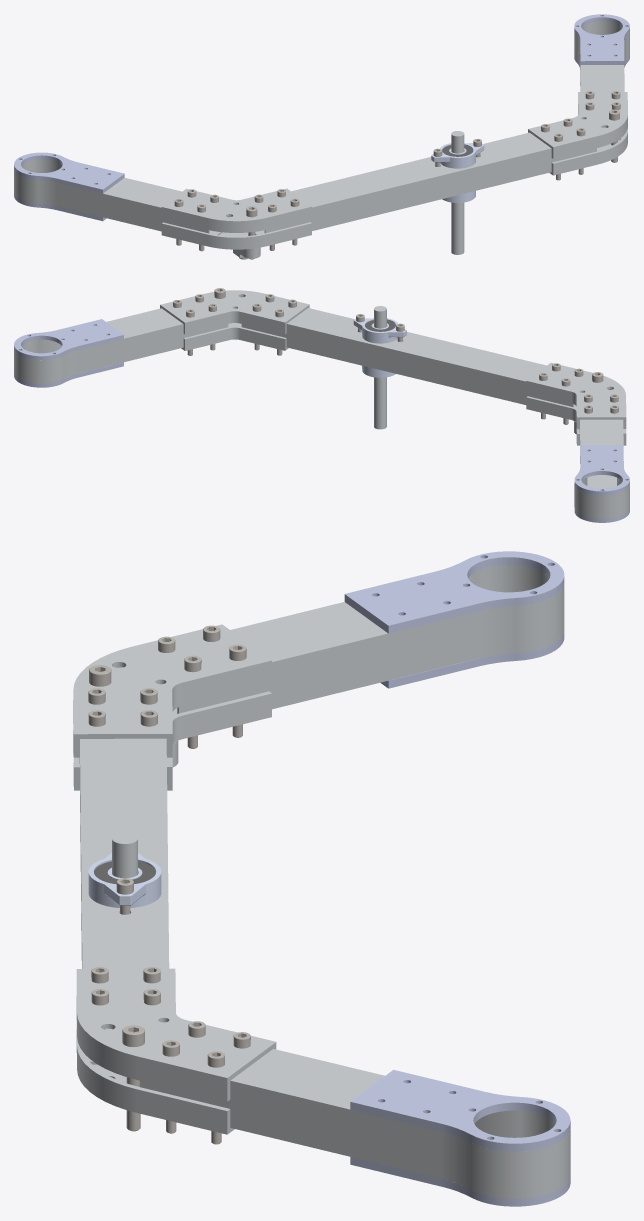
The picture shows the model from 3 angles, top to bottom: view 1: azimuth 30°, elevation 25°; view 2: azimuth 150°, elevation 25°; view 3: azimuth 270°, elevation 25°; orthographic projection. The views are drawn at different scales.
Visible parts, largest first — view 1: RL; view 2: RL; view 3: RL.
Part boxes in pixels (<box>): RL: <box>14,14,629,259</box>; RL: <box>14,288,629,522</box>; RL: <box>73,551,570,1206</box>.
Bounding box in the file's own units: 0.8076 × 0.15 × 0.2865.
